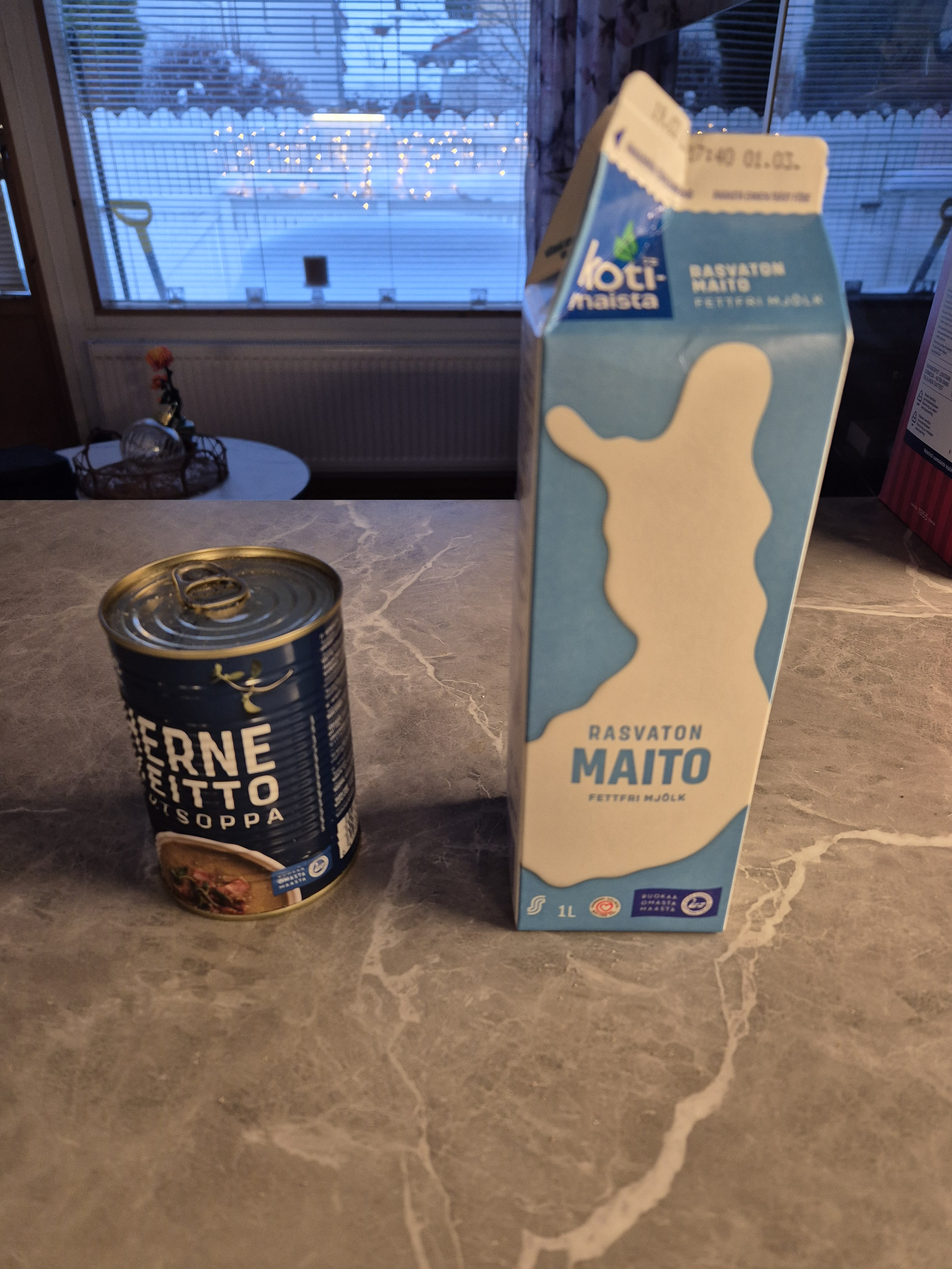Dryckeskartong: (500, 65, 857, 935)
Konservburk: (96, 543, 366, 922)
